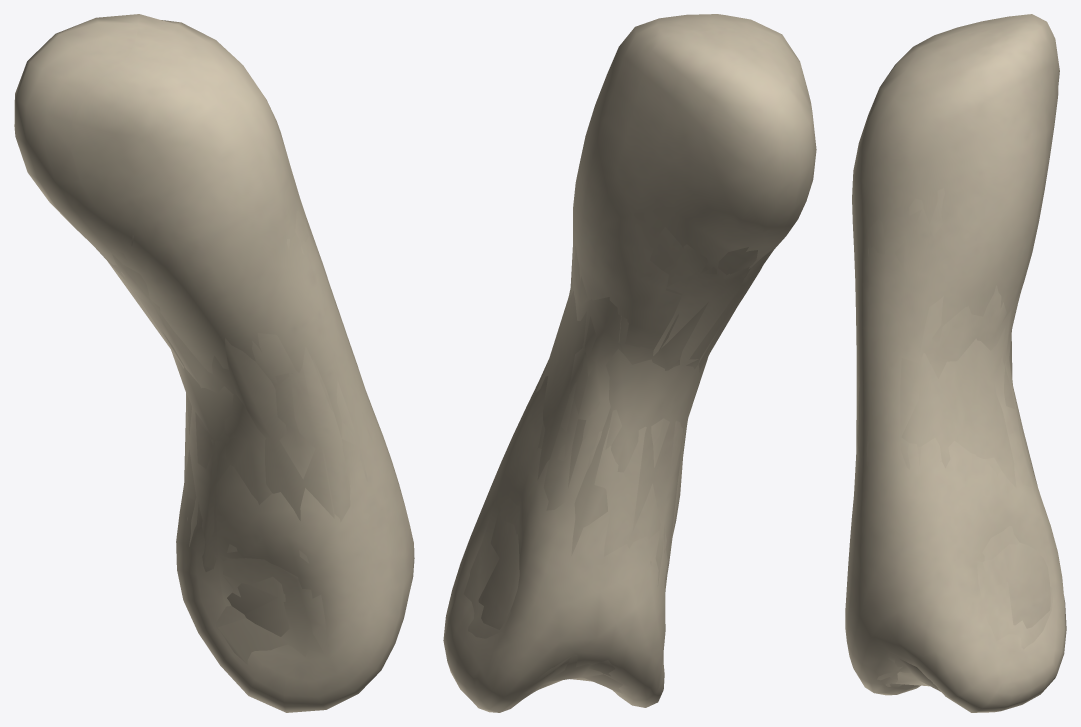
The model's file is R metacarpi primum.fbx.
3 renders of one model, left to right at view 1: azimuth 30°, elevation 25°; view 2: azimuth 150°, elevation 25°; view 3: azimuth 270°, elevation 25°, orthographic. The views are drawn at different scales.
Parts seen in each view (by area): view 1: R metacarpi primum high, R metacarpi primum, R metacarpi primum low; view 2: R metacarpi primum high, R metacarpi primum low, R metacarpi primum; view 3: R metacarpi primum high, R metacarpi primum low, R metacarpi primum.
Part boxes in pixels (x1,y1,x2,y2): R metacarpi primum high: (14,14,414,712); R metacarpi primum: (94,210,371,664); R metacarpi primum low: (108,246,357,636); R metacarpi primum high: (443,14,816,712); R metacarpi primum low: (478,267,750,673); R metacarpi primum: (463,227,773,698); R metacarpi primum high: (845,14,1066,712); R metacarpi primum low: (854,248,1050,691); R metacarpi primum: (855,188,1052,686).
Bounding box in the file's own units: 2.1 × 3.85 × 1.27.
